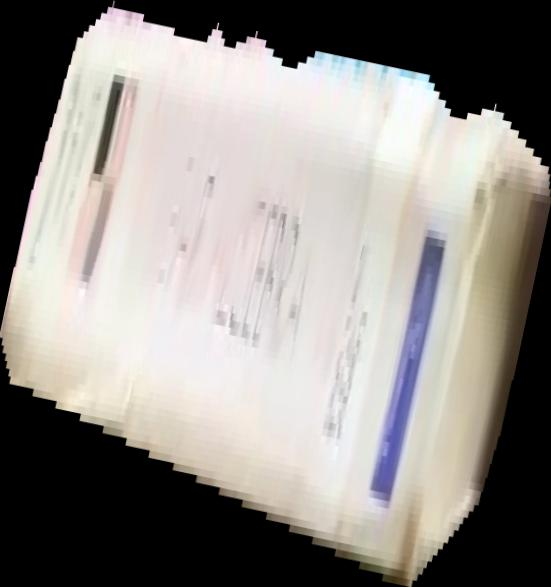flat: (1, 1, 551, 587)
